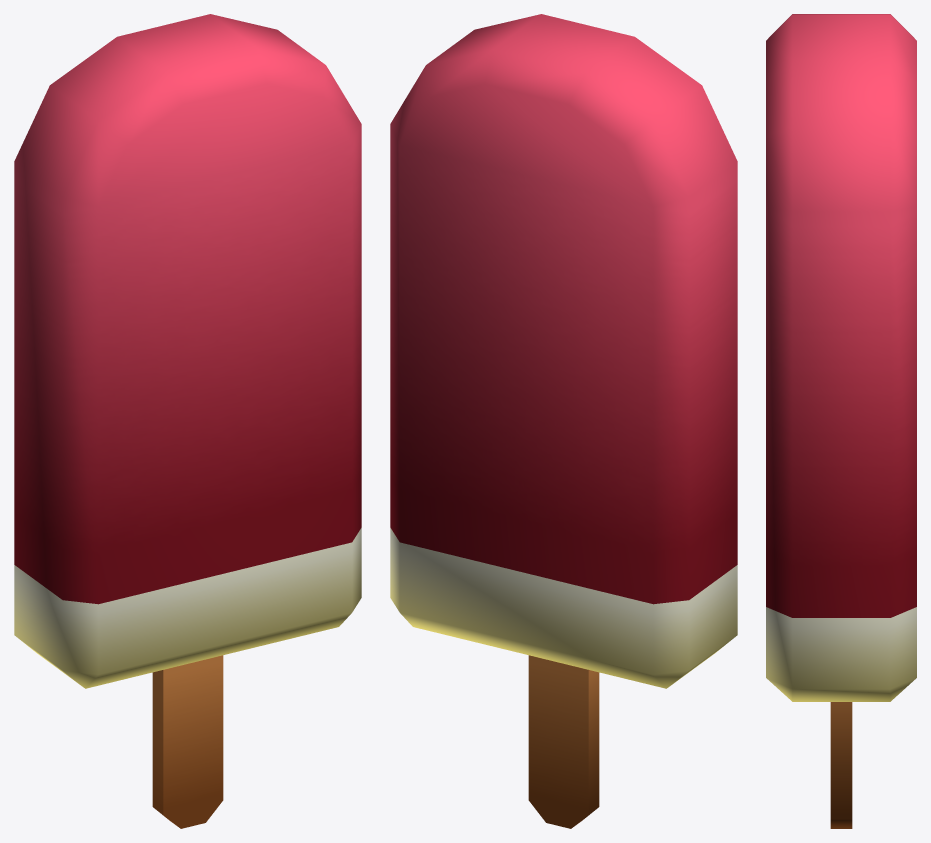
File: m_SimplePopsicle07.fbx
The picture shows the model from 3 angles, left to right: view 1: azimuth 30°, elevation 25°; view 2: azimuth 150°, elevation 25°; view 3: azimuth 270°, elevation 25°; orthographic projection.
Parts seen in each view (by area): view 1: m_SimplePopsicle07; view 2: m_SimplePopsicle07; view 3: m_SimplePopsicle07.
Part boxes in pixels (<box>): m_SimplePopsicle07: <box>14,14,361,828</box>; m_SimplePopsicle07: <box>390,14,737,828</box>; m_SimplePopsicle07: <box>766,14,916,828</box>.
Size of the model in its own units: 9.24 by 22.99 by 4.
